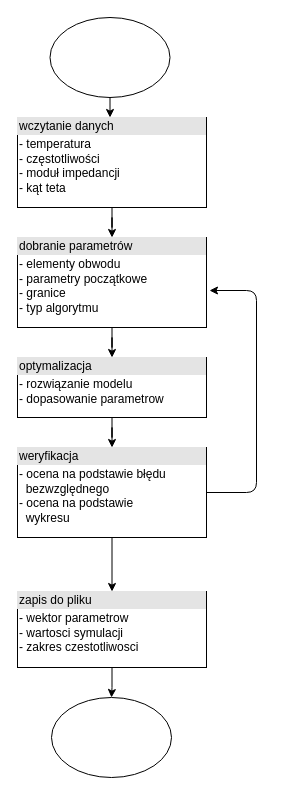
The diagram is 282 pixels wide and 795 high, and some of its shapes have lost their labels. The centre of each missing label's shape, as x and y in pixels:
KONIEC: point (111, 737)
START: point (109, 57)
